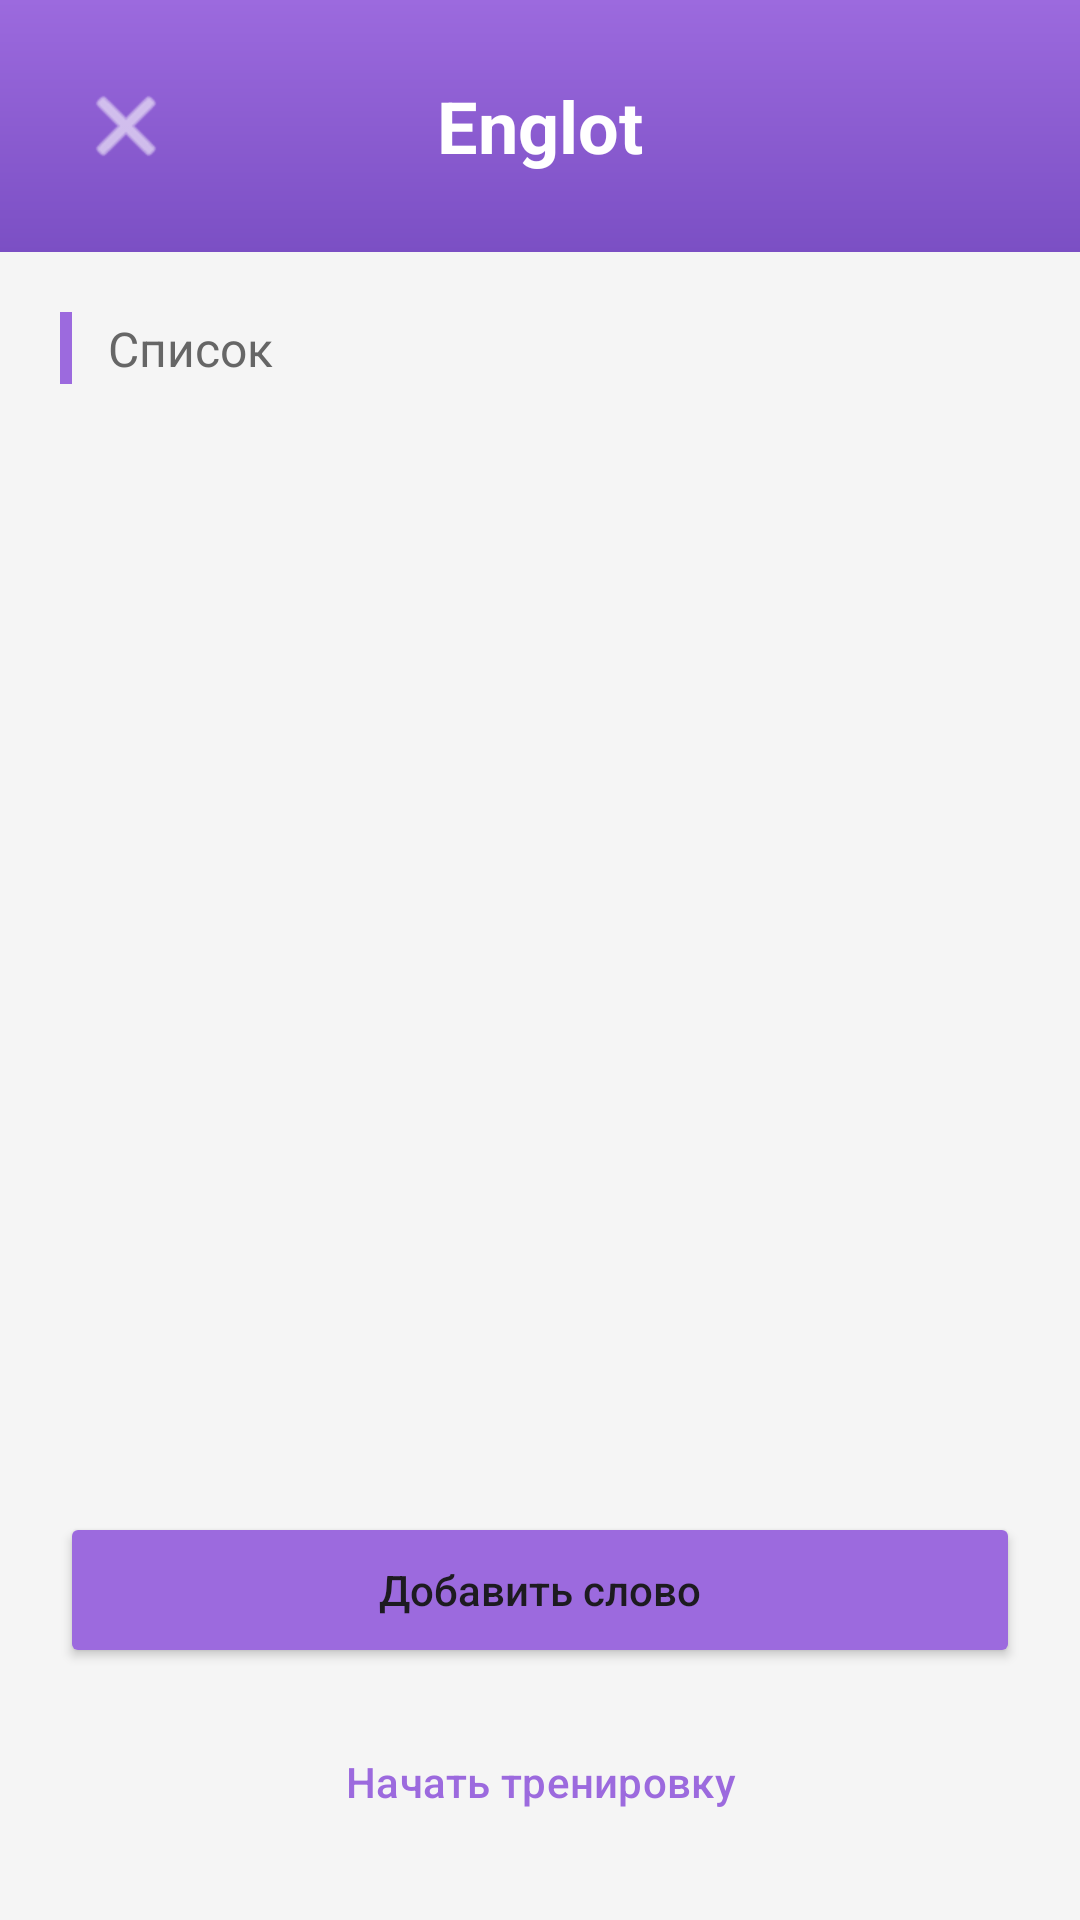

Icons on this 1080px x 1920px Android screen, each with its box as [left=x1, top=y1, right=x2, bottom=y2]:
Отмена: [left=96, top=96, right=156, bottom=156]
